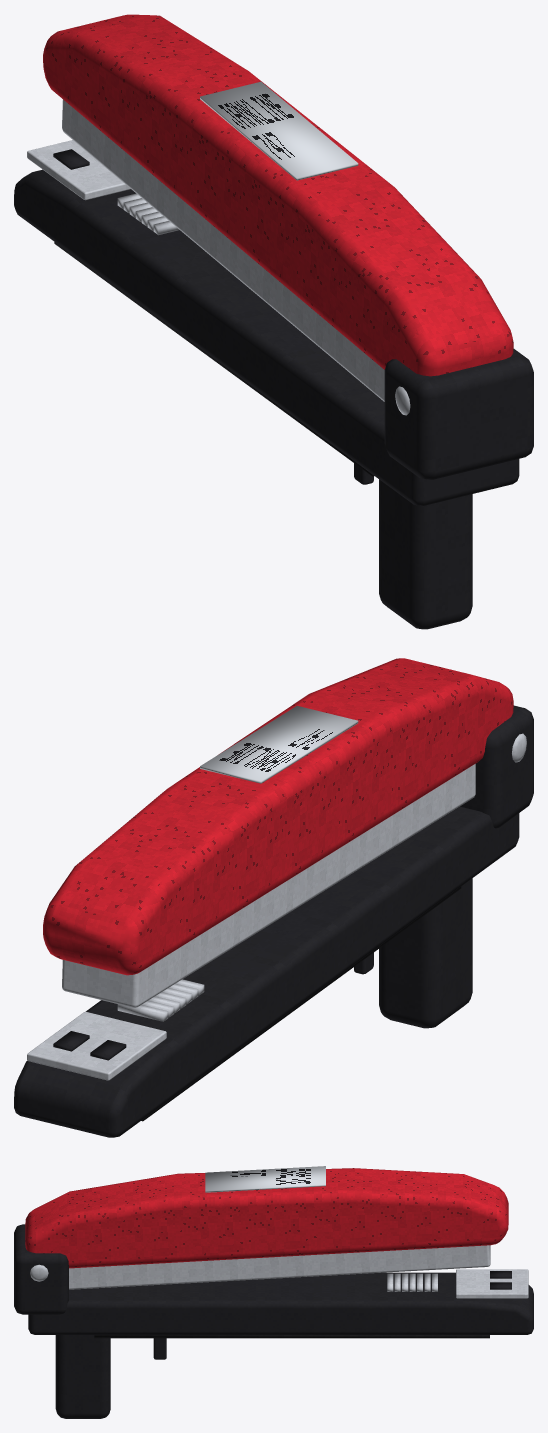
The model's file is w_nailgun_staple.glb.
3 renders of one model, top to bottom at view 1: azimuth 30°, elevation 25°; view 2: azimuth 150°, elevation 25°; view 3: azimuth 270°, elevation 25°, orthographic. The views are drawn at different scales.
Parts seen in each view (by area): view 1: stapler_body_wzA, stapler_trim_wzN, stapler_works_wzB; view 2: stapler_body_wzA, stapler_trim_wzN, stapler_works_wzB; view 3: stapler_body_wzA, stapler_works_wzB, stapler_trim_wzN.
Boxes of the visible parts, x1=… form: stapler_body_wzA: x1=14, y1=14, x2=533, y2=629; stapler_trim_wzN: x1=27, y1=81, x2=410, y2=476; stapler_works_wzB: x1=62, y1=99, x2=384, y2=484; stapler_body_wzA: x1=14, y1=658, x2=533, y2=1137; stapler_trim_wzN: x1=27, y1=706, x2=526, y2=1121; stapler_works_wzB: x1=62, y1=764, x2=475, y2=1007; stapler_body_wzA: x1=14, y1=1168, x2=533, y2=1418; stapler_works_wzB: x1=69, y1=1245, x2=490, y2=1359; stapler_trim_wzN: x1=30, y1=1166, x2=528, y2=1338.
Size of the model in its own units: 0.08 by 0.2385 by 0.473.
5 materials, 5 textured.
